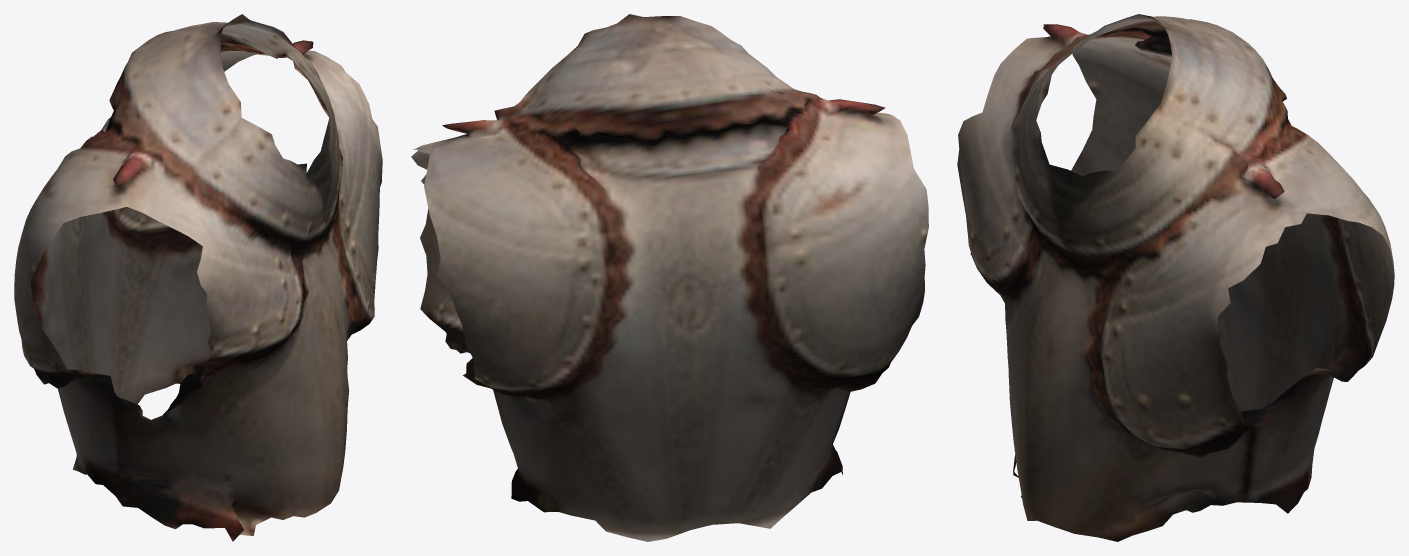
Rendered from armour-torso.glb.
The picture shows the model from 3 angles, left to right: view 1: azimuth 30°, elevation 25°; view 2: azimuth 150°, elevation 25°; view 3: azimuth 270°, elevation 25°; orthographic projection. The views are drawn at different scales.
Visible parts, largest first — view 1: Object_2; view 2: Object_2; view 3: Object_2.
Part boxes in pixels (<box>): Object_2: <box>14,14,382,541</box>; Object_2: <box>411,14,928,541</box>; Object_2: <box>957,14,1394,541</box>.
Bounding box in the file's own units: 0.4746 × 0.5085 × 0.4071.
1 material, 1 textured.
